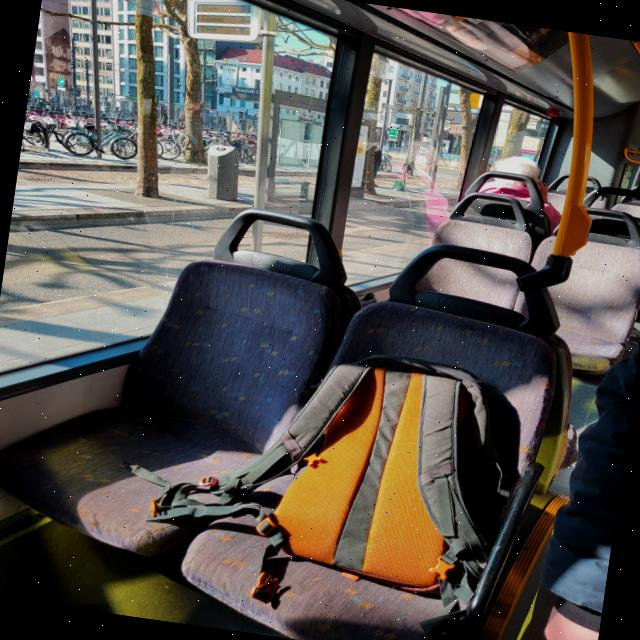empty-seat-frontal: (0, 177, 376, 583), (500, 198, 640, 386)
